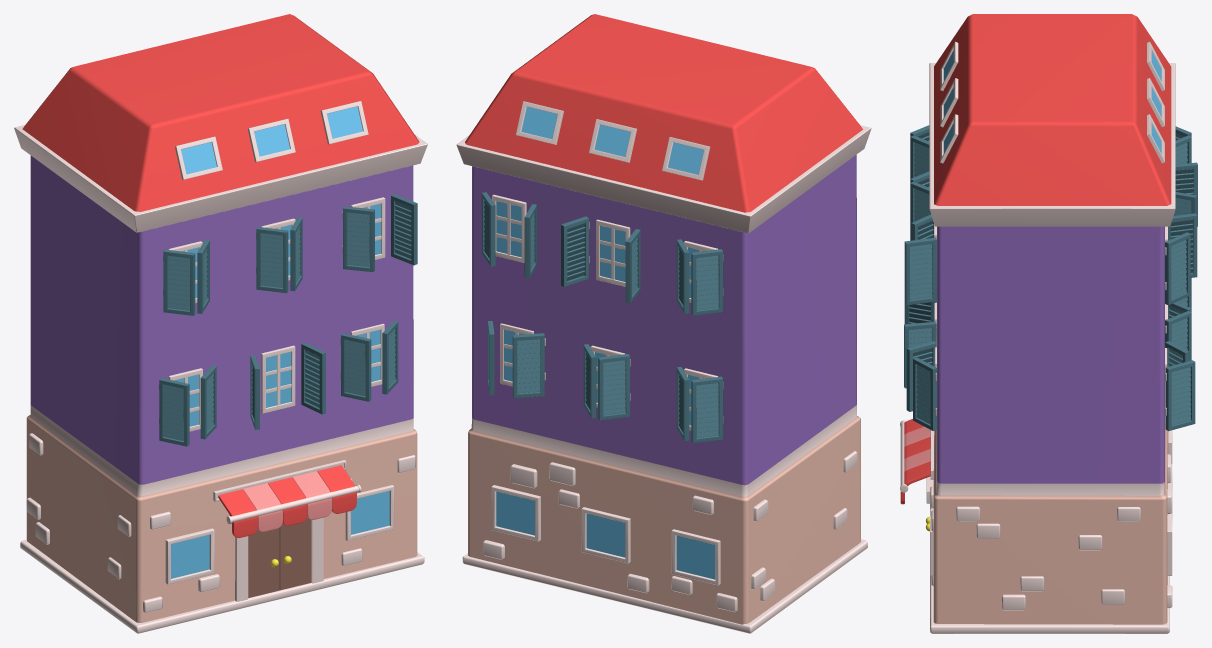
The model's file is City_13_House_1.glb.
3 views of the same model, side by side, from view 1: azimuth 30°, elevation 25°; view 2: azimuth 150°, elevation 25°; view 3: azimuth 270°, elevation 25° (orthographic).
Visible parts, largest first — view 1: City_13_House_1; view 2: City_13_House_1; view 3: City_13_House_1.
Boxes of the visible parts, x1,y1,x2,y2 form: City_13_House_1: (14,14,427,633); City_13_House_1: (456,14,871,633); City_13_House_1: (900,14,1197,633).
Size of the model in its own units: 8.36 by 13.25 by 7.22.
1 material, 1 textured.
